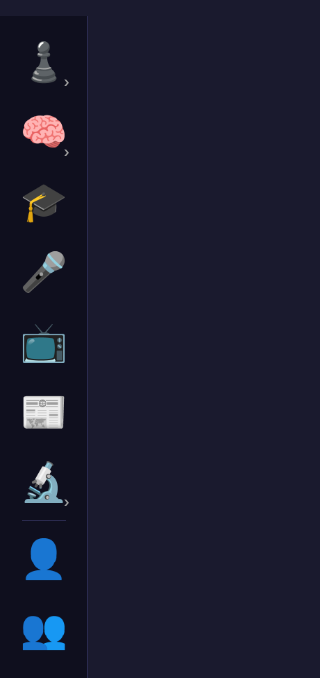
it: <Sidebar> KS-2848 — Play submenu с Турнирами › desktop: click parent → поповер с подпунктами Play + Tournaments
This screenshot has width=320, height=678.
Click the button with test id "sidebar-submenu-parent-play": (44, 62) [14,32,74,92]
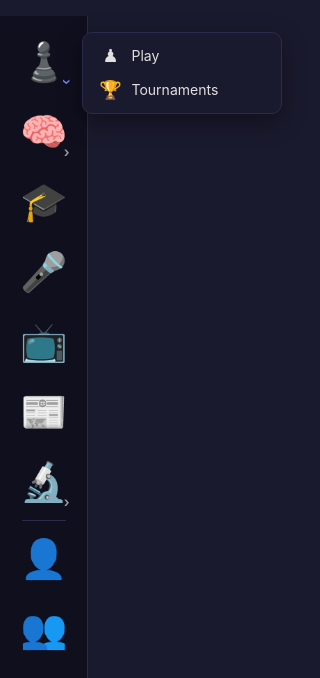
Check: the menu with test id "sidebar-submenu-popover-play" is shown, box [82,32,282,114]
Check: the menu item with test id "sidebar-submenu-item-play" is shown, box [102,45,159,66]
Check: the menu item with test id "sidebar-submenu-item-tournaments" is shown, box [99,79,218,100]
